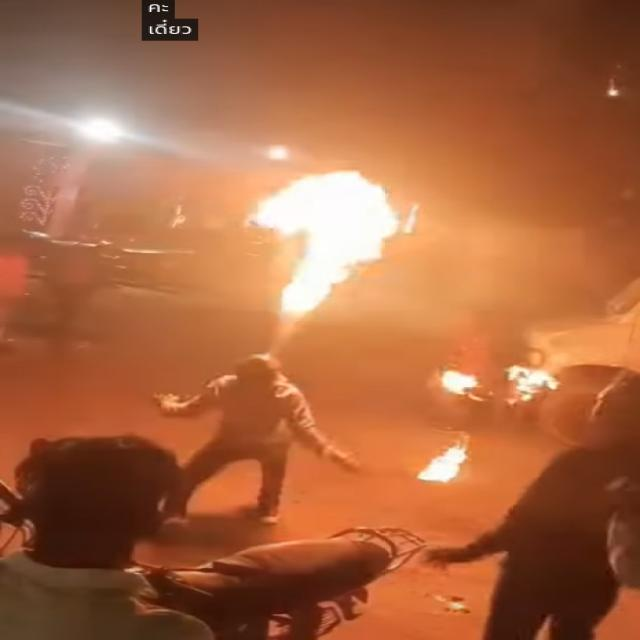fire: (252, 169, 400, 235), (281, 236, 392, 311), (509, 365, 562, 402), (416, 447, 469, 483)
